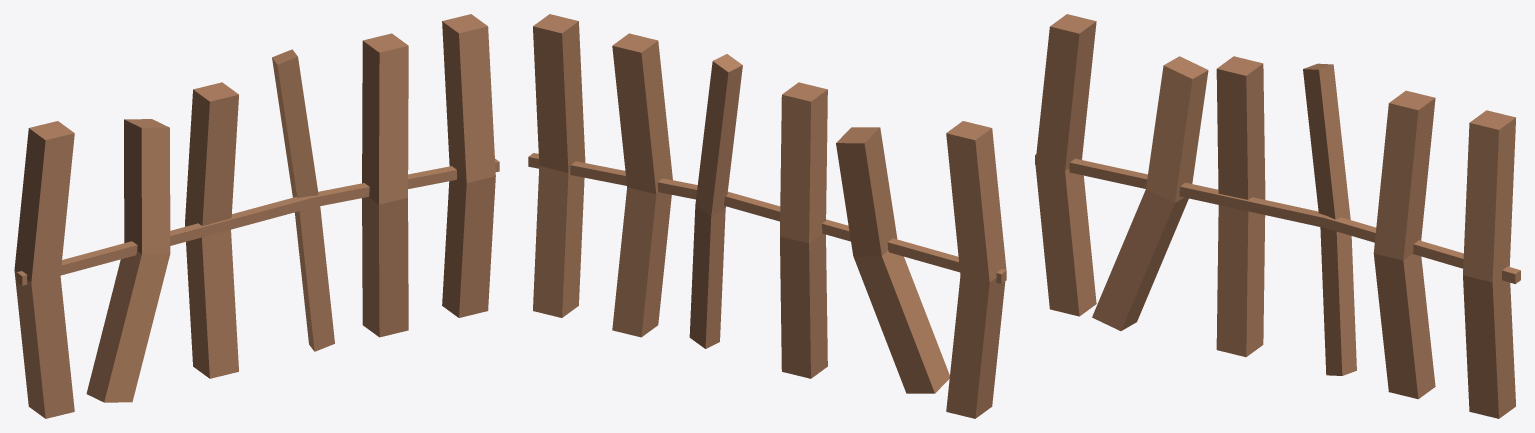
File: badfence.fbx
The picture shows the model from 3 angles, left to right: view 1: azimuth 30°, elevation 25°; view 2: azimuth 150°, elevation 25°; view 3: azimuth 330°, elevation 25°; orthographic projection.
Visible parts, largest first — view 1: badfence; view 2: badfence; view 3: badfence.
Boxes of the visible parts, x1=… form: badfence: x1=14, y1=14, x2=499, y2=418; badfence: x1=528, y1=14, x2=1006, y2=418; badfence: x1=1035, y1=14, x2=1520, y2=418.
Bounding box in the file's own units: 262 × 156 × 31.9.
